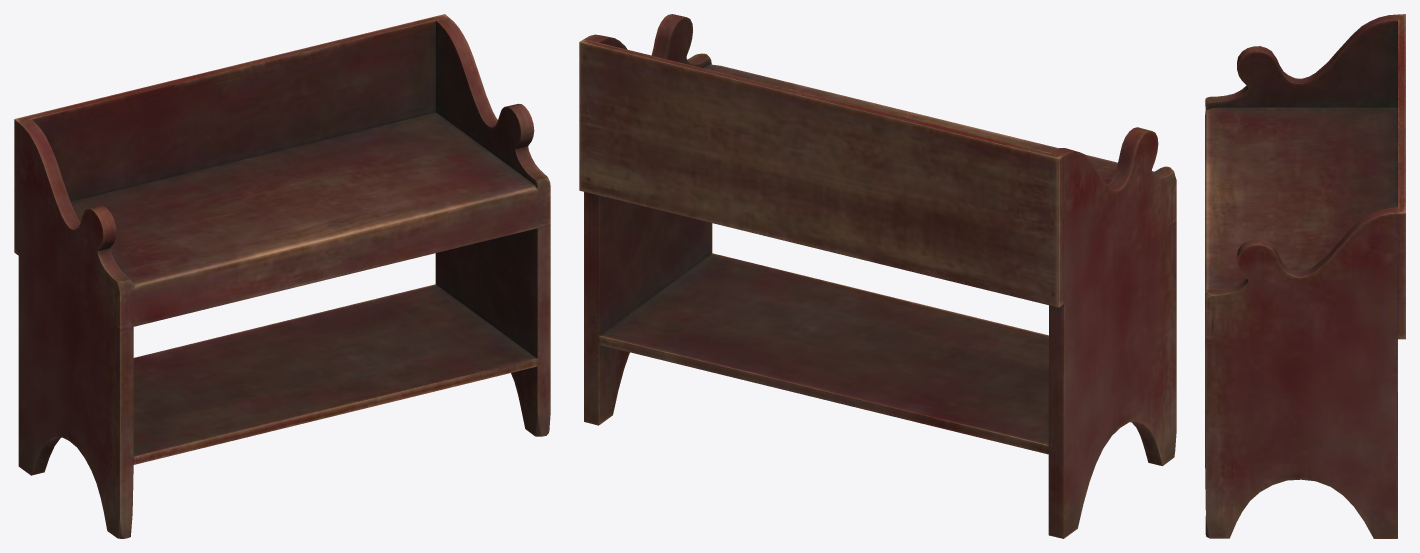
Rendered from painted_wooden_bench.glb.
3 renders of one model, left to right at view 1: azimuth 30°, elevation 25°; view 2: azimuth 150°, elevation 25°; view 3: azimuth 270°, elevation 25°, orthographic. The views are drawn at different scales.
Visible parts, largest first — view 1: painted_wooden_bench; view 2: painted_wooden_bench; view 3: painted_wooden_bench.
Boxes of the visible parts, bbox=[...] form: painted_wooden_bench: bbox=[14, 14, 550, 538]; painted_wooden_bench: bbox=[579, 14, 1176, 538]; painted_wooden_bench: bbox=[1205, 14, 1405, 538].
Size of the model in its own units: 1.16 by 0.8893 by 0.4965.
Materials: 1 (1 with a texture image).
